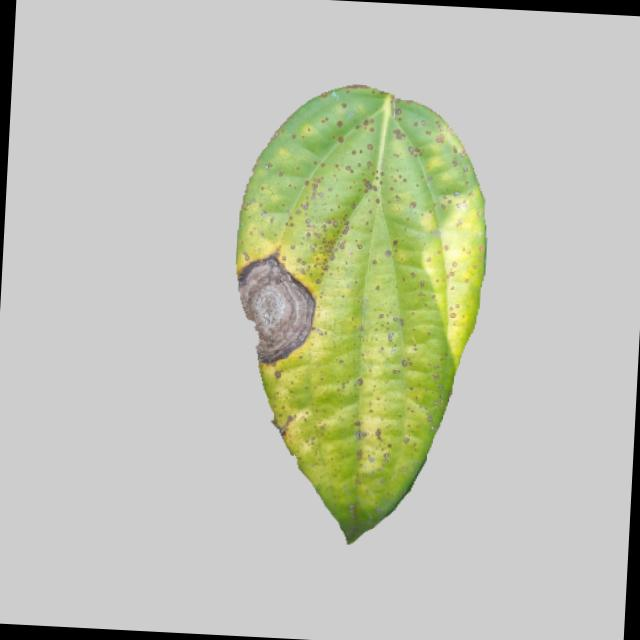leaf-blight: (217, 81, 506, 546)
